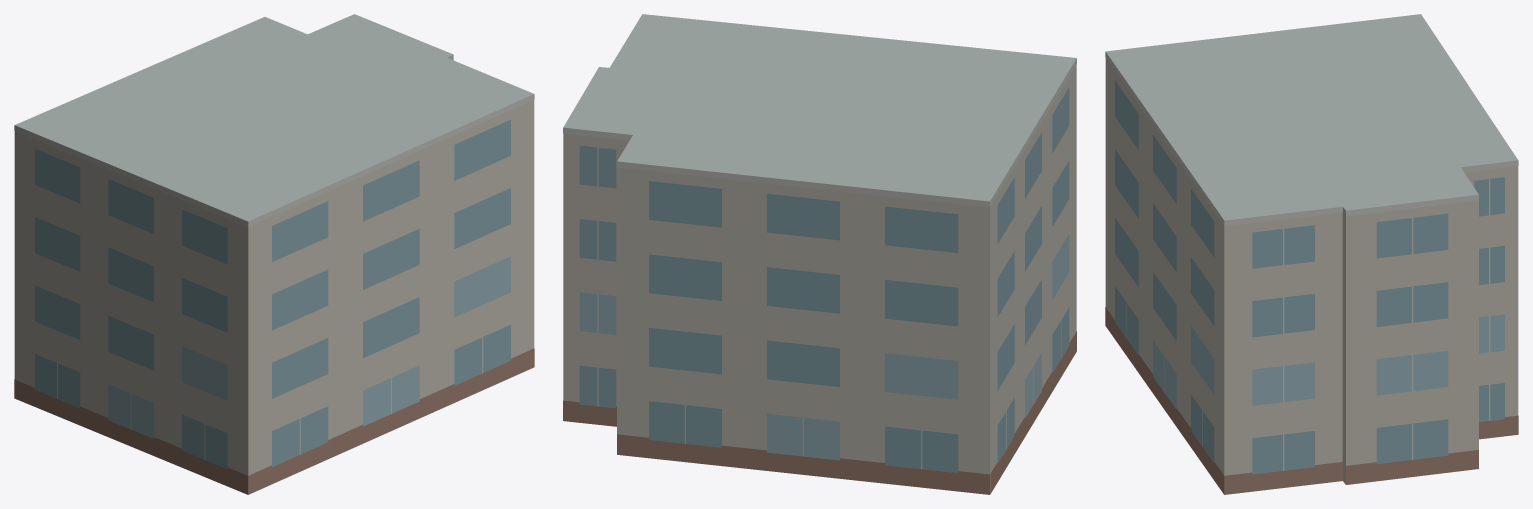
The model's file is survey-upis-32680140.glb.
3 renders of one model, left to right at view 1: azimuth 30°, elevation 25°; view 2: azimuth 150°, elevation 25°; view 3: azimuth 270°, elevation 25°, orthographic. The views are drawn at different scales.
Visible parts, largest first — view 1: survey-upis-32680140.tmp; view 2: survey-upis-32680140.tmp; view 3: survey-upis-32680140.tmp.
Boxes of the visible parts, <box> form: survey-upis-32680140.tmp: <box>14,14,534,494</box>; survey-upis-32680140.tmp: <box>563,14,1076,494</box>; survey-upis-32680140.tmp: <box>1105,14,1518,494</box>.
Bounding box in the file's own units: 18.99 × 11.75 × 16.04.
